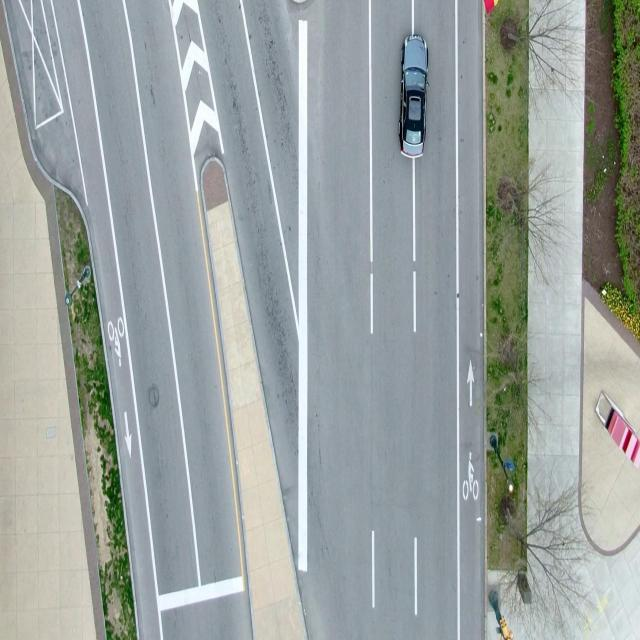Car: (394, 25, 435, 158)
